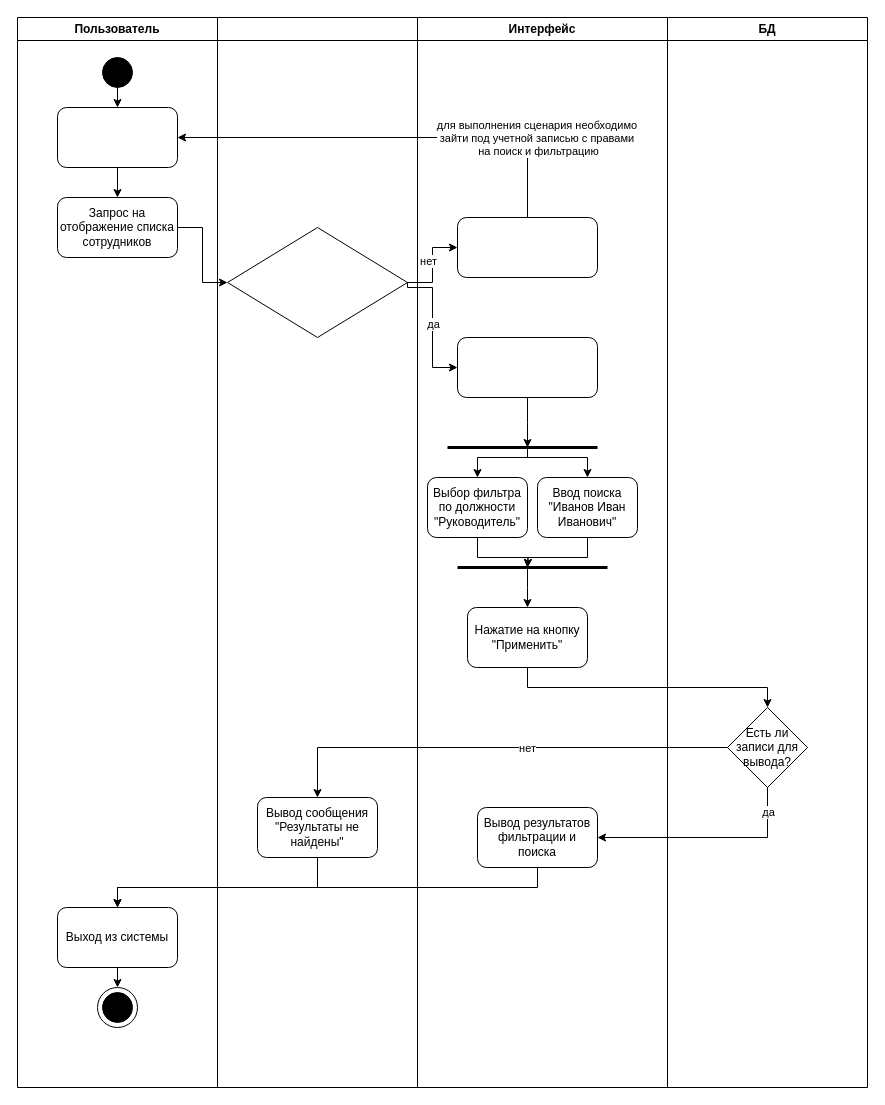
Some shapes in this 885 by 1105 pixel diagram are drawn without their labels. Each missing label, with the box of its shape:
Вход в систему: (56, 106, 178, 168)
Есть ли права доступа на отображение элементов фильтрации и поиска?: (226, 226, 408, 338)
Отображение простого списка сотрудников: (456, 216, 598, 278)
Отображение списка сотрудников с элементами для фильтрации и поиска: (456, 336, 598, 398)
Система: (216, 16, 418, 1088)
